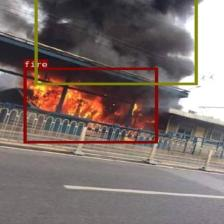fire: (23, 67, 158, 143)
smoke: (34, 0, 197, 84)
